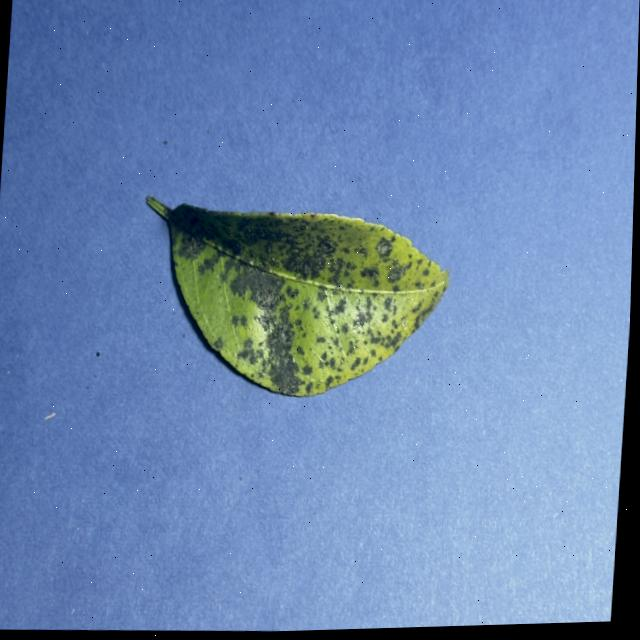sooty_mold: (147, 196, 447, 396)
